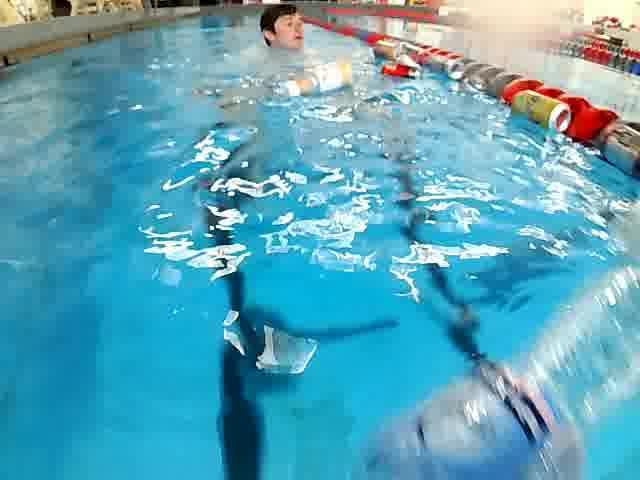Bottle: (356, 261, 640, 480), (284, 53, 366, 98)
Can: (511, 84, 572, 137), (422, 50, 466, 80), (380, 57, 424, 85)
